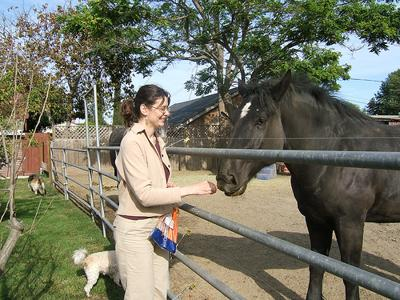person: (112, 85, 217, 299)
